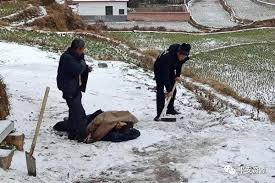fall: (48, 103, 145, 143)
